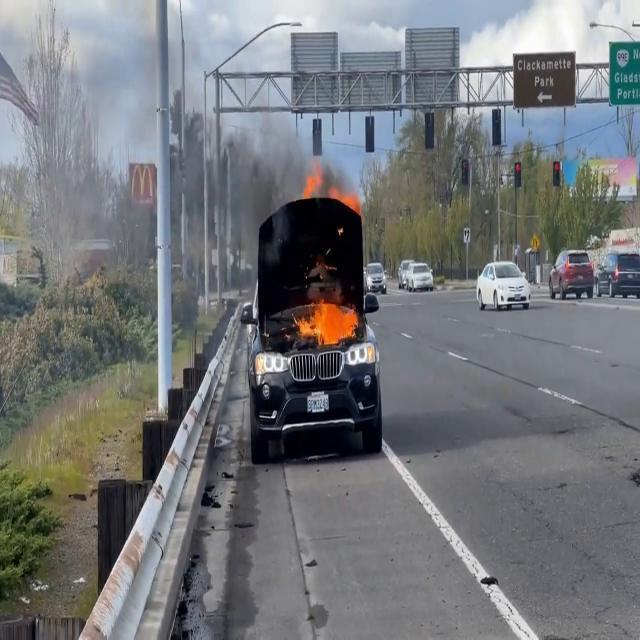Fire: (293, 293, 361, 351)
Smoke: (220, 107, 303, 233)
